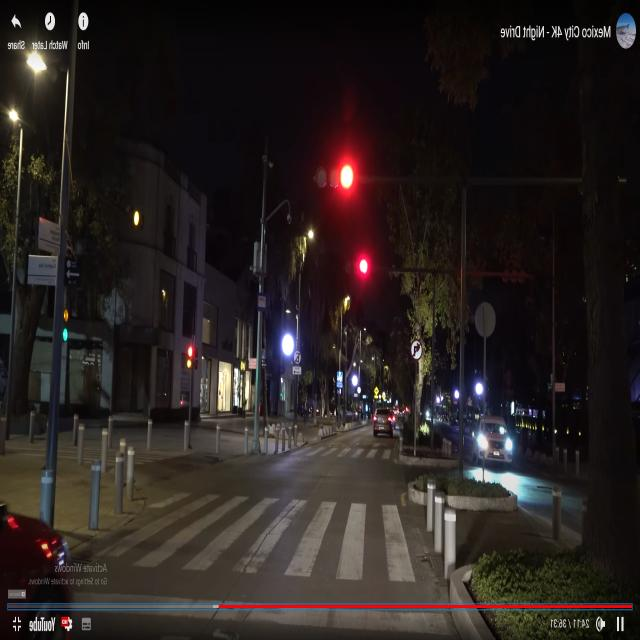headlights: (468, 430, 518, 458)
